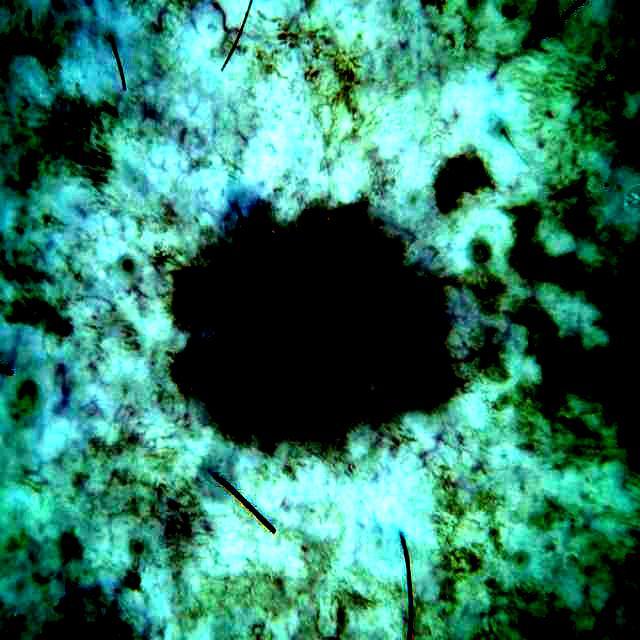AKIEC: (176, 205, 453, 437)
